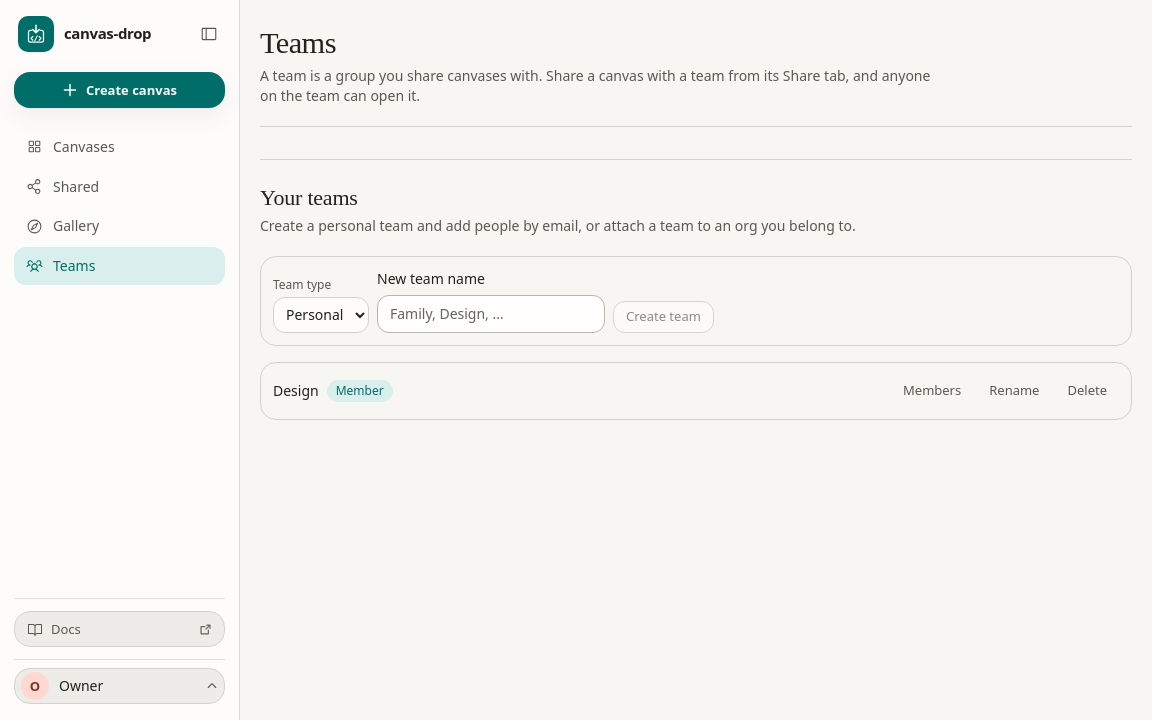
Scenario: teams page › expands a team roster and adds a member; shows pending sign-ins
Click the button "Members".
click(932, 390)  # box [891,374,973,406]
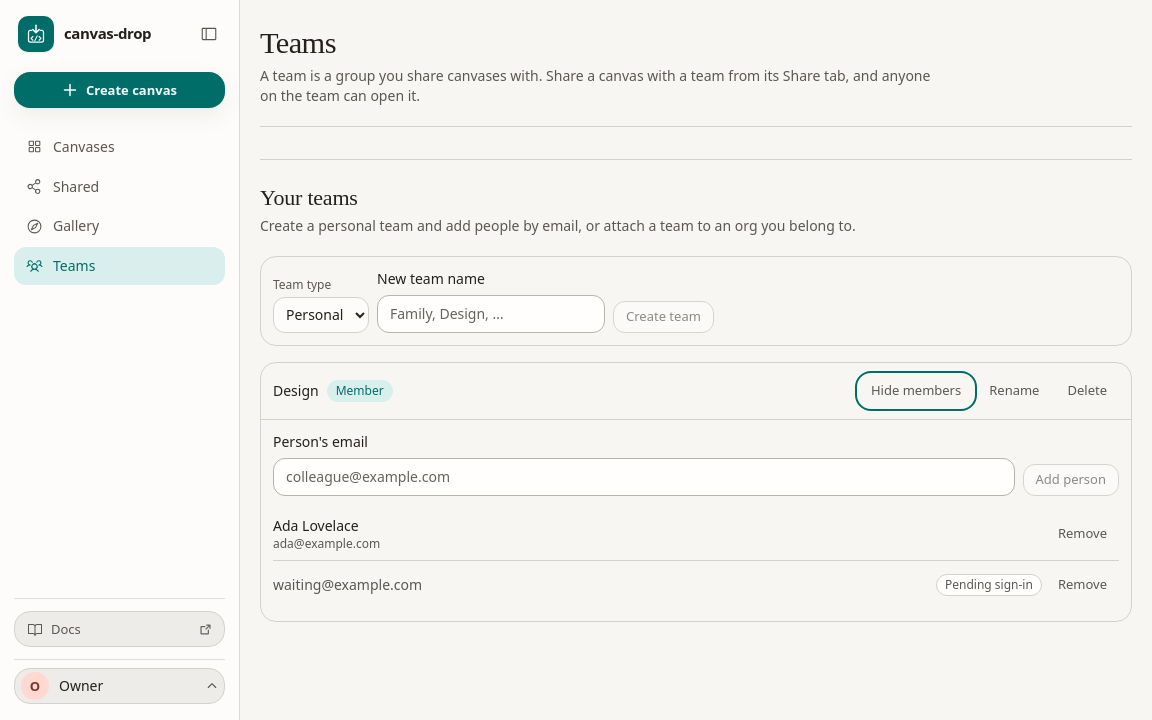
Expected: the text "Ada Lovelace" is shown, [273,516,359,534]
Expected: the text "waiting@example.com" is shown, [273,574,422,594]
Expected: the text "Pending sign-in" is shown, [936,574,1042,596]
Type "new@example.com" into the dropdown labelled "Person's email".
click(644, 476); type("new@example.com")  # box [273,458,1014,496]
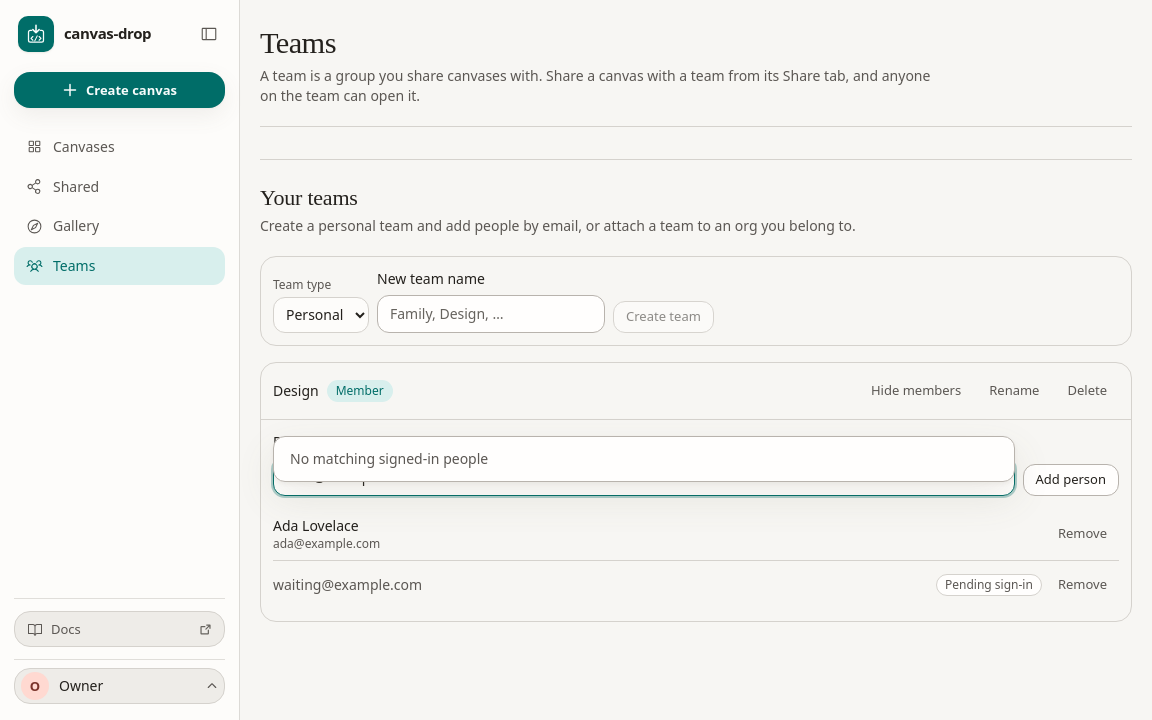
Click the button "Add person".
click(1071, 480)  # box [1022,464,1119,496]
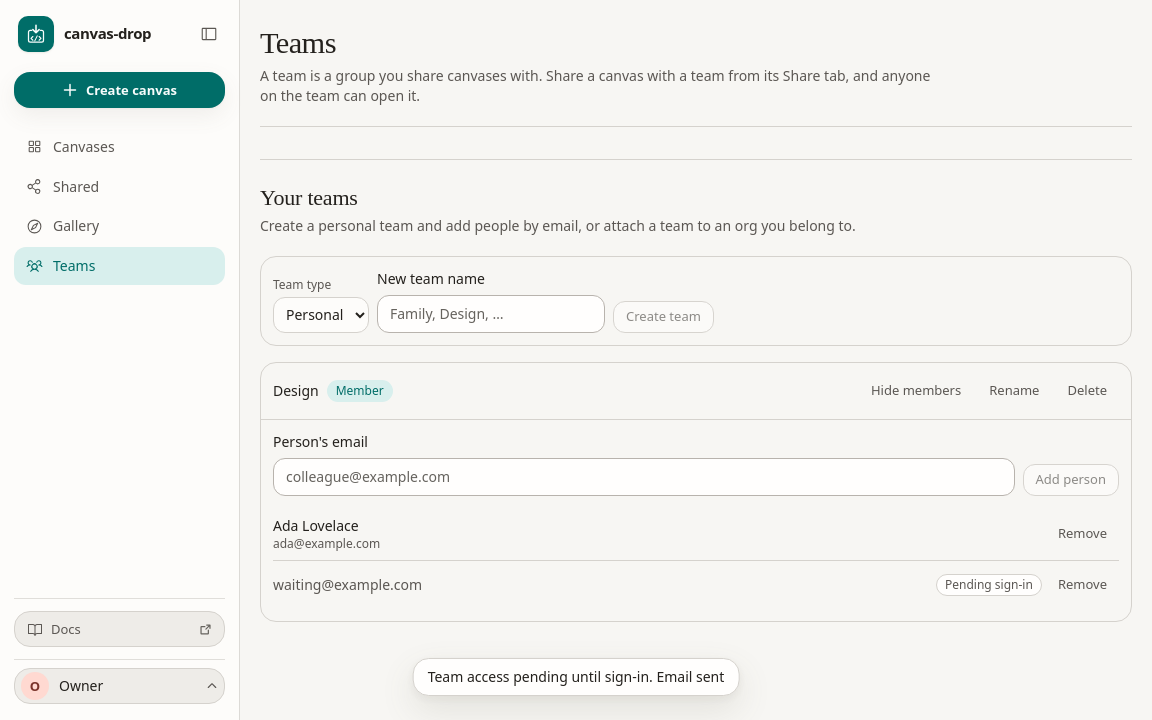
Expected: the text "Team access pending until sign-in. Email sent" is shown, [413,658,739,696]
